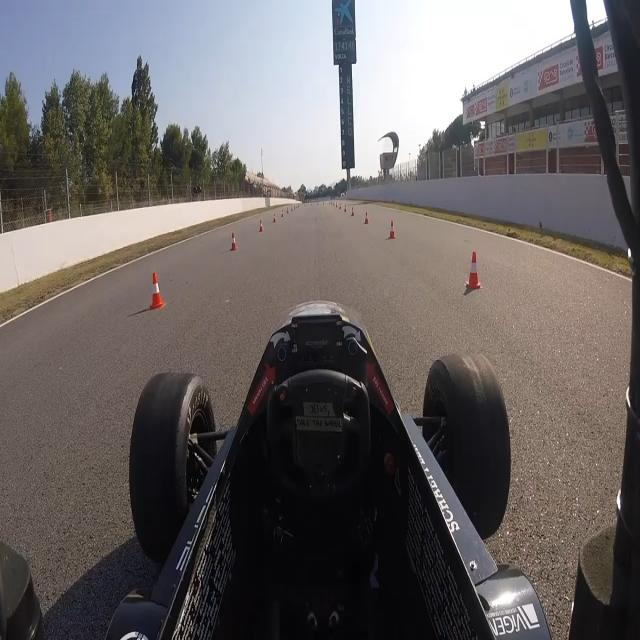orange_cone: (465, 248, 483, 292), (148, 269, 166, 311), (388, 219, 397, 239), (230, 231, 238, 252), (364, 210, 369, 224), (259, 219, 264, 232), (351, 206, 355, 217), (272, 213, 276, 223)
